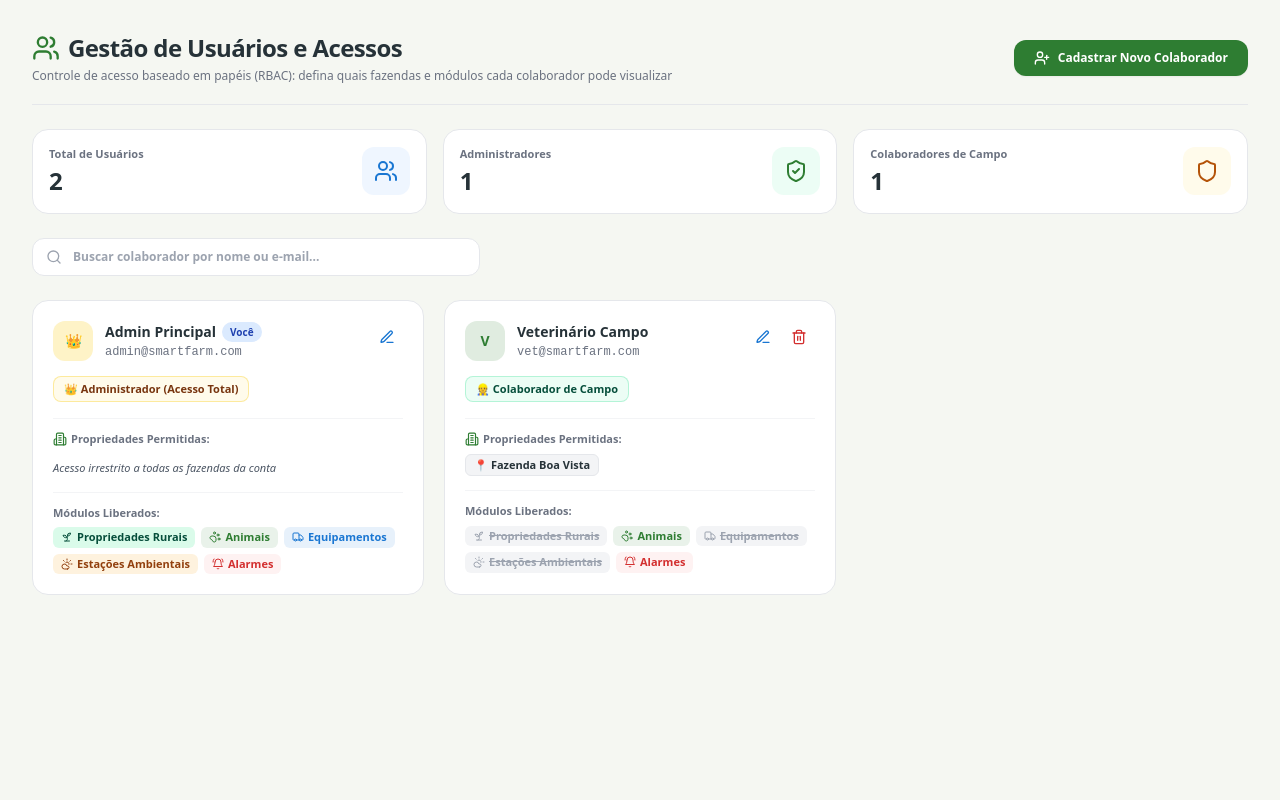
Test: Página de Gestão de Usuários e Acessos (Usuarios) › lista colaboradores com seus módulos liberados e abre modal de novo cadastro
The width and height of the screenshot is (1280, 800).
Check: the text "Veterinário Campo" is shown, box top-left (517, 322), bottom-right (648, 342)
Click the button "Cadastrar Novo Colaborador": click(1131, 58) top-left (1014, 40), bottom-right (1248, 76)
(page scrolled)
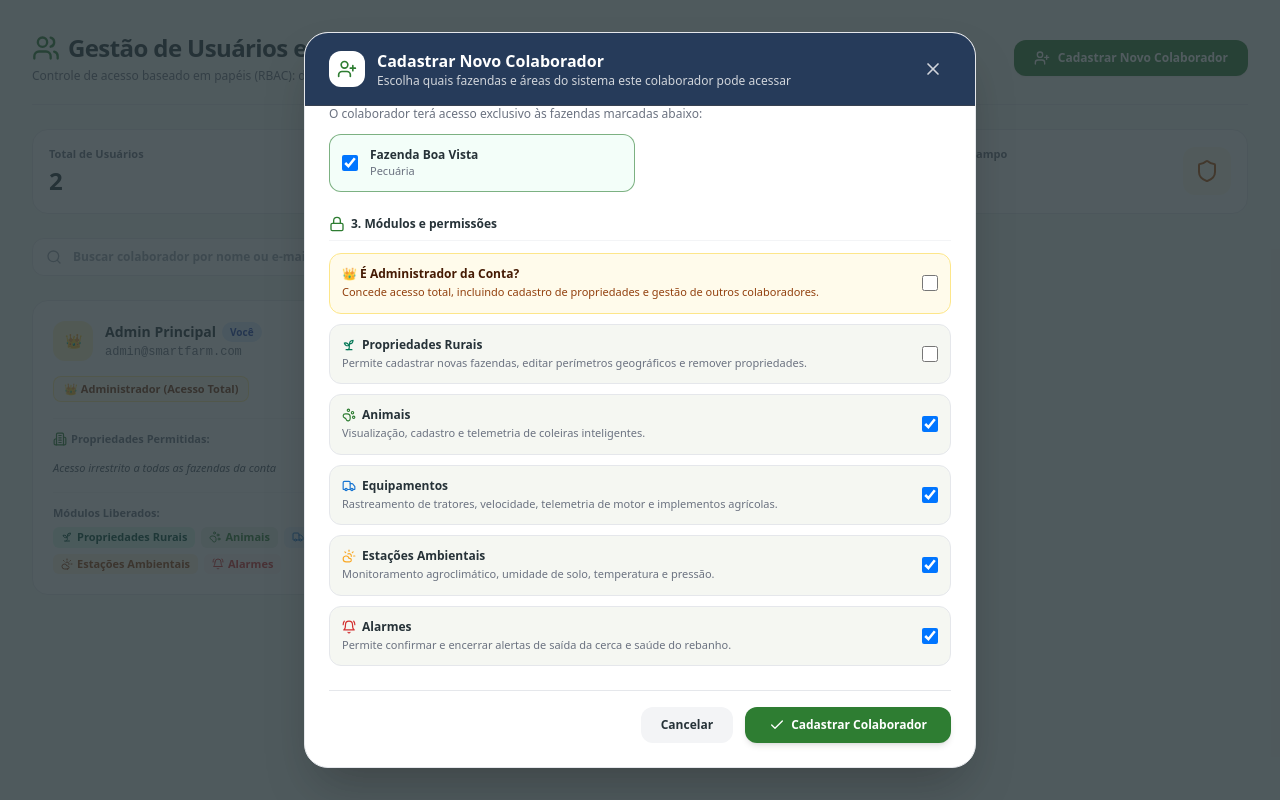
Check: the checkbox labelled "Propriedades Rurais" is shown, box top-left (922, 346), bottom-right (938, 362)
Check: the checkbox labelled "Animais" is shown, box top-left (922, 416), bottom-right (938, 432)
Check: the checkbox labelled "Equipamentos" is shown, box top-left (922, 487), bottom-right (938, 503)
